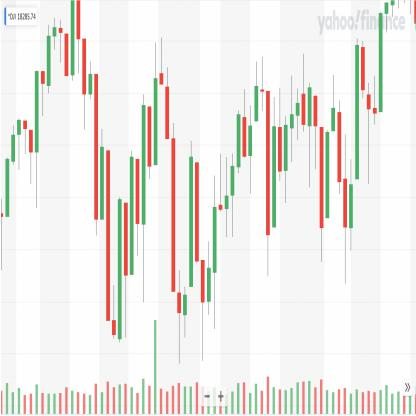Bearish: Shooting Star: (152, 33, 170, 170)
